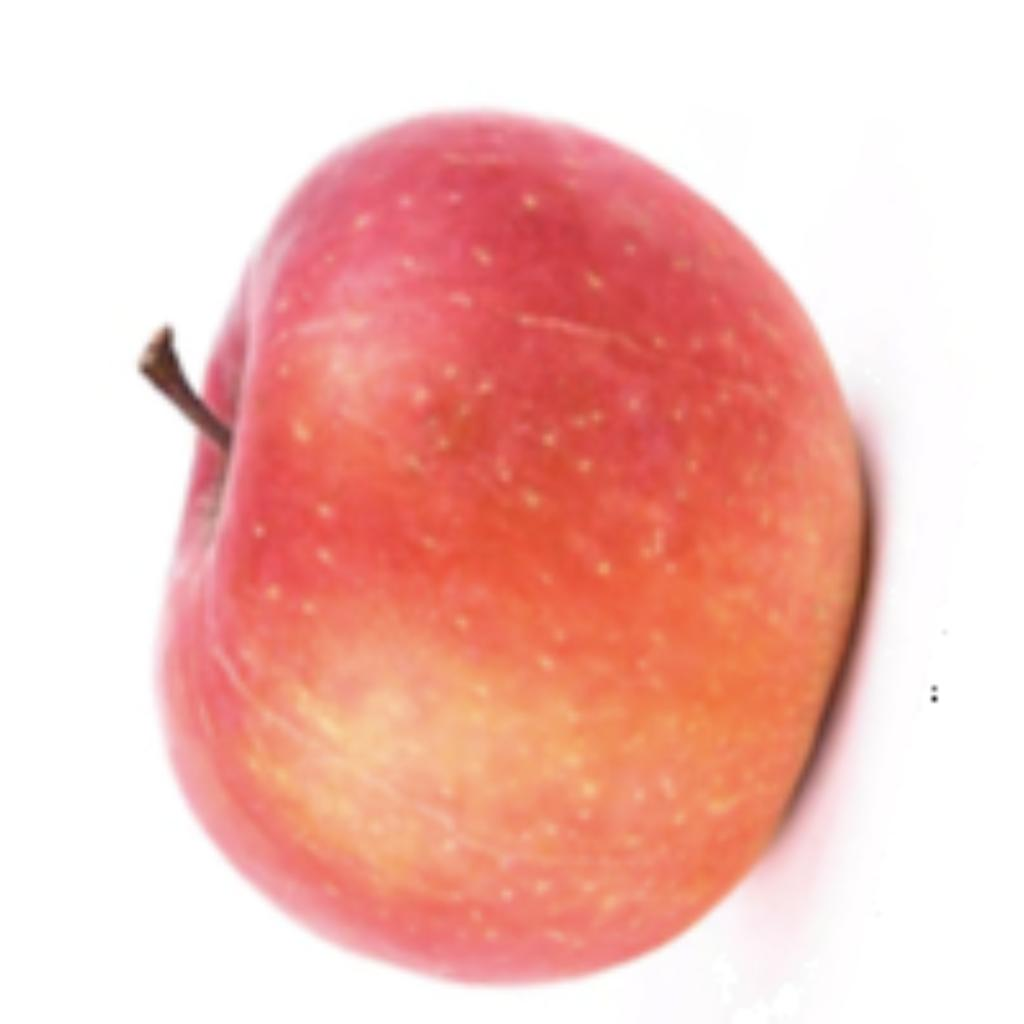apple: (128, 97, 906, 993)
